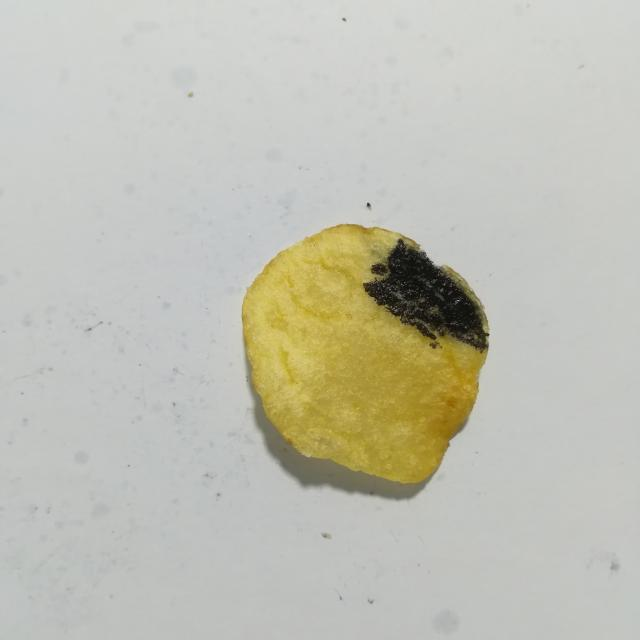chip: (242, 225, 489, 482)
damaged: (363, 239, 488, 352), (429, 341, 443, 349)
semi-damaged: (440, 265, 489, 333), (371, 238, 397, 265)
